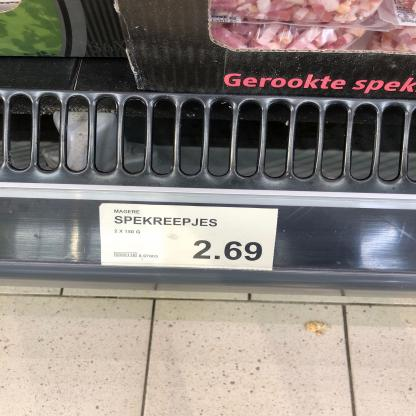prtg: (100, 205, 280, 272)
